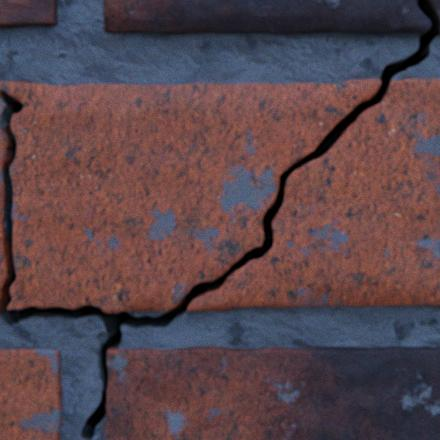brick: (105, 345, 439, 439), (0, 348, 63, 439), (0, 0, 58, 29)
broken_brick: (0, 79, 380, 312), (187, 79, 439, 310), (105, 0, 430, 35), (425, 0, 439, 34)
crack: (0, 0, 438, 439)
